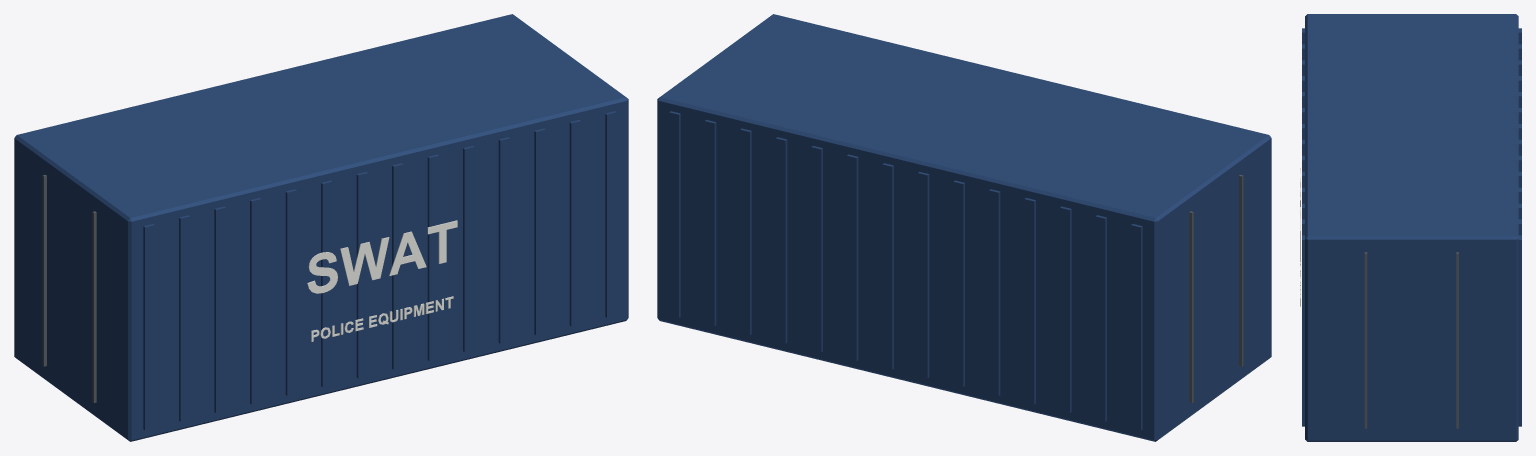
File: PD_SWAT_Container.fbx
3 renders of one model, left to right at view 1: azimuth 30°, elevation 25°; view 2: azimuth 150°, elevation 25°; view 3: azimuth 270°, elevation 25°, orthographic. The views are drawn at different scales.
Visible parts, largest first — view 1: PD_SWAT_Container_Mesh; view 2: PD_SWAT_Container_Mesh; view 3: PD_SWAT_Container_Mesh.
Boxes of the visible parts, x1,y1,x2,y2 form: PD_SWAT_Container_Mesh: (14, 14, 628, 441); PD_SWAT_Container_Mesh: (657, 14, 1271, 441); PD_SWAT_Container_Mesh: (1300, 14, 1521, 441).
Size of the model in its own units: 6.13 by 2.59 by 2.53.
